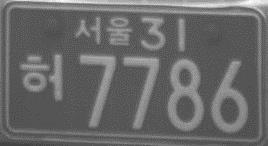1: (173, 15, 192, 54)
3: (139, 15, 168, 51)
6: (209, 55, 250, 135)
7: (120, 52, 161, 131), (76, 51, 118, 128)
8: (167, 57, 205, 133)
서울_O: (73, 15, 134, 46)
허: (19, 54, 66, 104)
